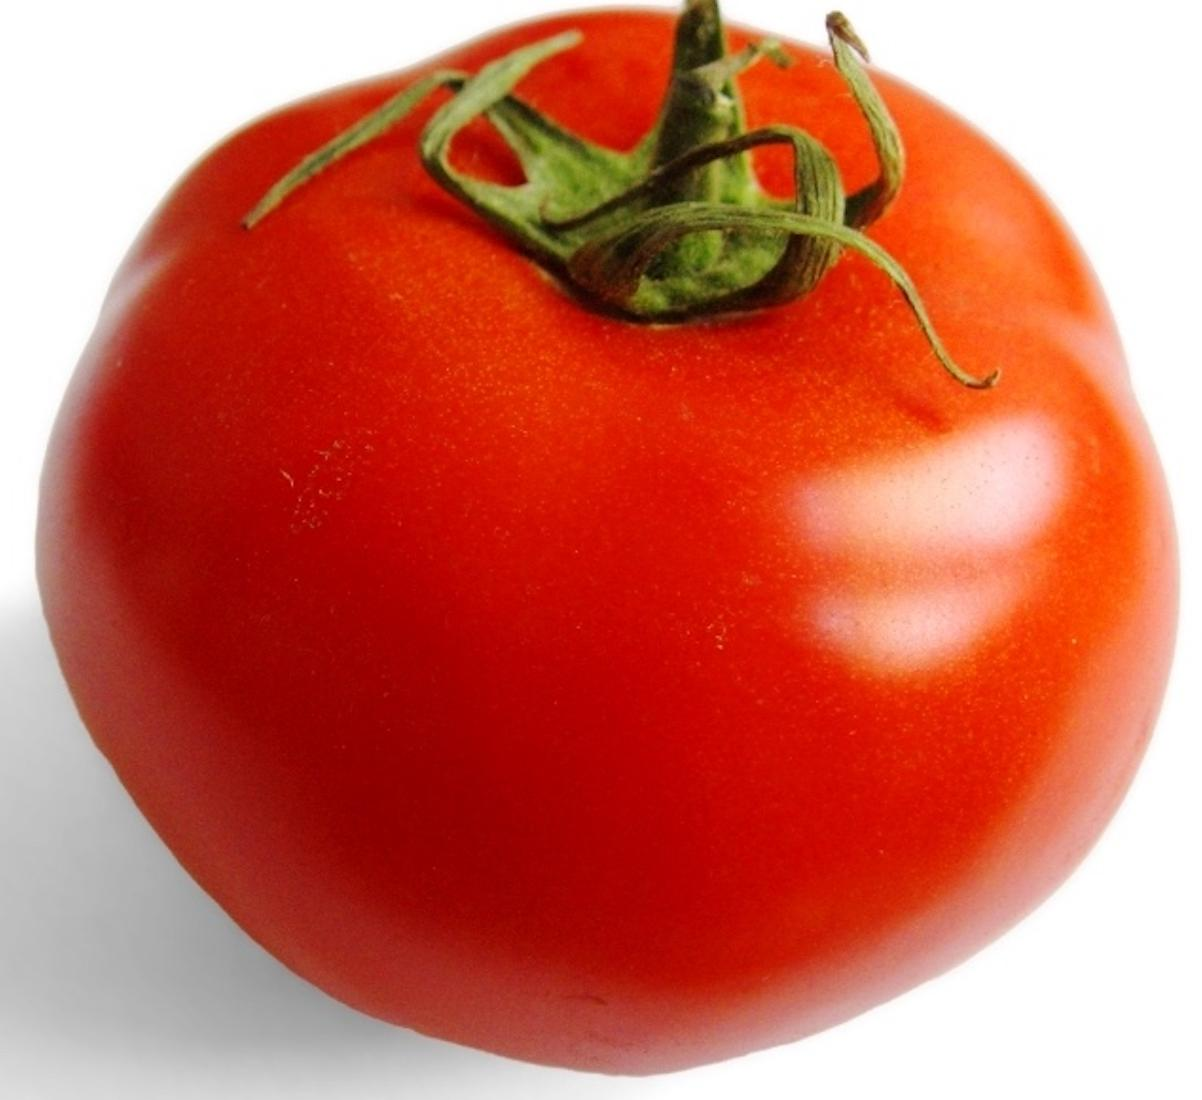tomato: (46, 35, 1160, 1071)
